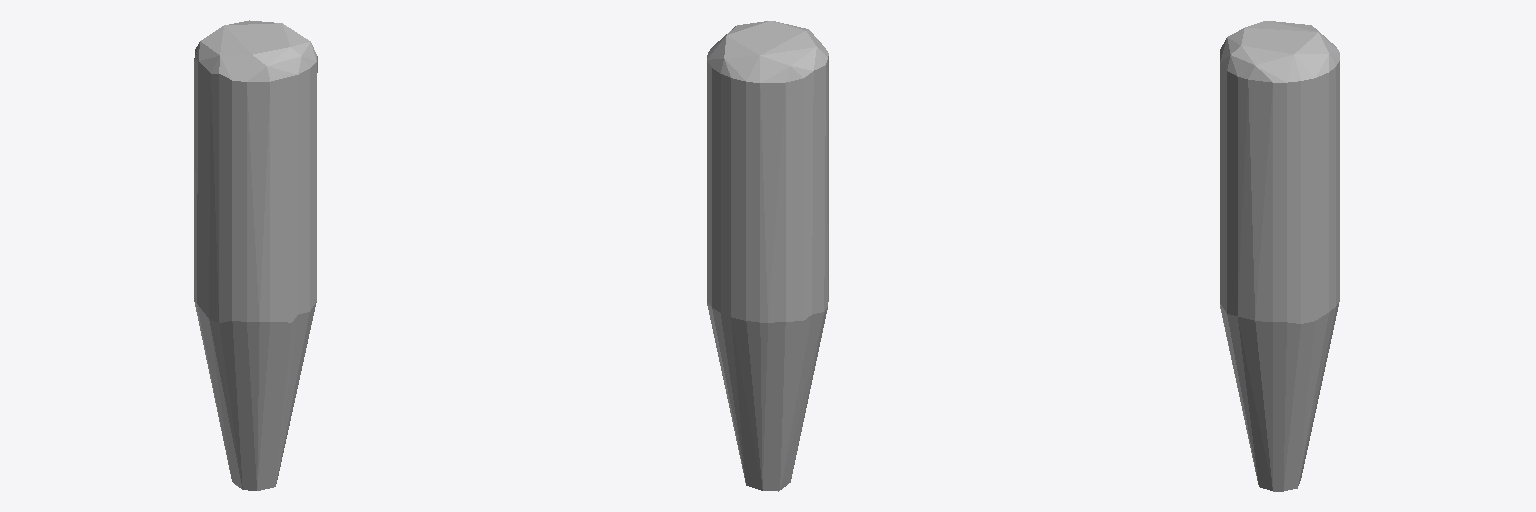
URDF robot description (root):
<robot name="root">
  <link name="link_5ad47181a9026fc728cc22dce7529b69_convex_piece_0">
    <inertial>
      <origin rpy="0 0 0" xyz="0 0 0"/>
      <mass value="2.08E-04"/>
      <inertia ixx="4.03E-07" ixy="-1.23E-10" ixz="2.36E-10" iyy="4.03E-07" iyz="7.38E-11" izz="5.28E-08"/>
    </inertial>
    <visual>
      <origin rpy="0 0 0" xyz="0 0 0"/>
      <geometry>
        <mesh filename="5ad47181a9026fc728cc22dce7529b69_convex_piece_0.obj" scale="1.0000E+00"/>
      </geometry>
      <material name="">
        <color rgba="7.50E-01 7.50E-01 7.50E-01 1"/>
      </material>
    </visual>
    <collision>
      <origin rpy="0 0 0" xyz="0 0 0"/>
      <geometry>
        <mesh filename="5ad47181a9026fc728cc22dce7529b69_convex_piece_0.obj" scale="1.0000E+00"/>
      </geometry>
    </collision>
  </link>
</robot>

--- What the picture shows (computed from the rendered views, not written in the file) ---
The picture shows the robot from 3 angles, left to right: view 1: azimuth 30°, elevation 25°; view 2: azimuth 150°, elevation 25°; view 3: azimuth 270°, elevation 25°; orthographic projection.
Robot: root — 1 links, 0 joints (none); root link link_5ad47181a9026fc728cc22dce7529b69_convex_piece_0; default pose: every joint at zero.
Visible links, largest first — view 1: link_5ad47181a9026fc728cc22dce7529b69_convex_piece_0; view 2: link_5ad47181a9026fc728cc22dce7529b69_convex_piece_0; view 3: link_5ad47181a9026fc728cc22dce7529b69_convex_piece_0.
Link boxes in pixels (box(x1,y1,x2,y2)): link_5ad47181a9026fc728cc22dce7529b69_convex_piece_0: box(194, 20, 317, 490); link_5ad47181a9026fc728cc22dce7529b69_convex_piece_0: box(707, 21, 828, 491); link_5ad47181a9026fc728cc22dce7529b69_convex_piece_0: box(1220, 21, 1339, 491).
Bounding box of the posed robot: 0.0469 × 0.0469 × 0.1932 m (x, y, z).
1 mesh visuals loaded from 1 distinct referenced files (1 OBJ).